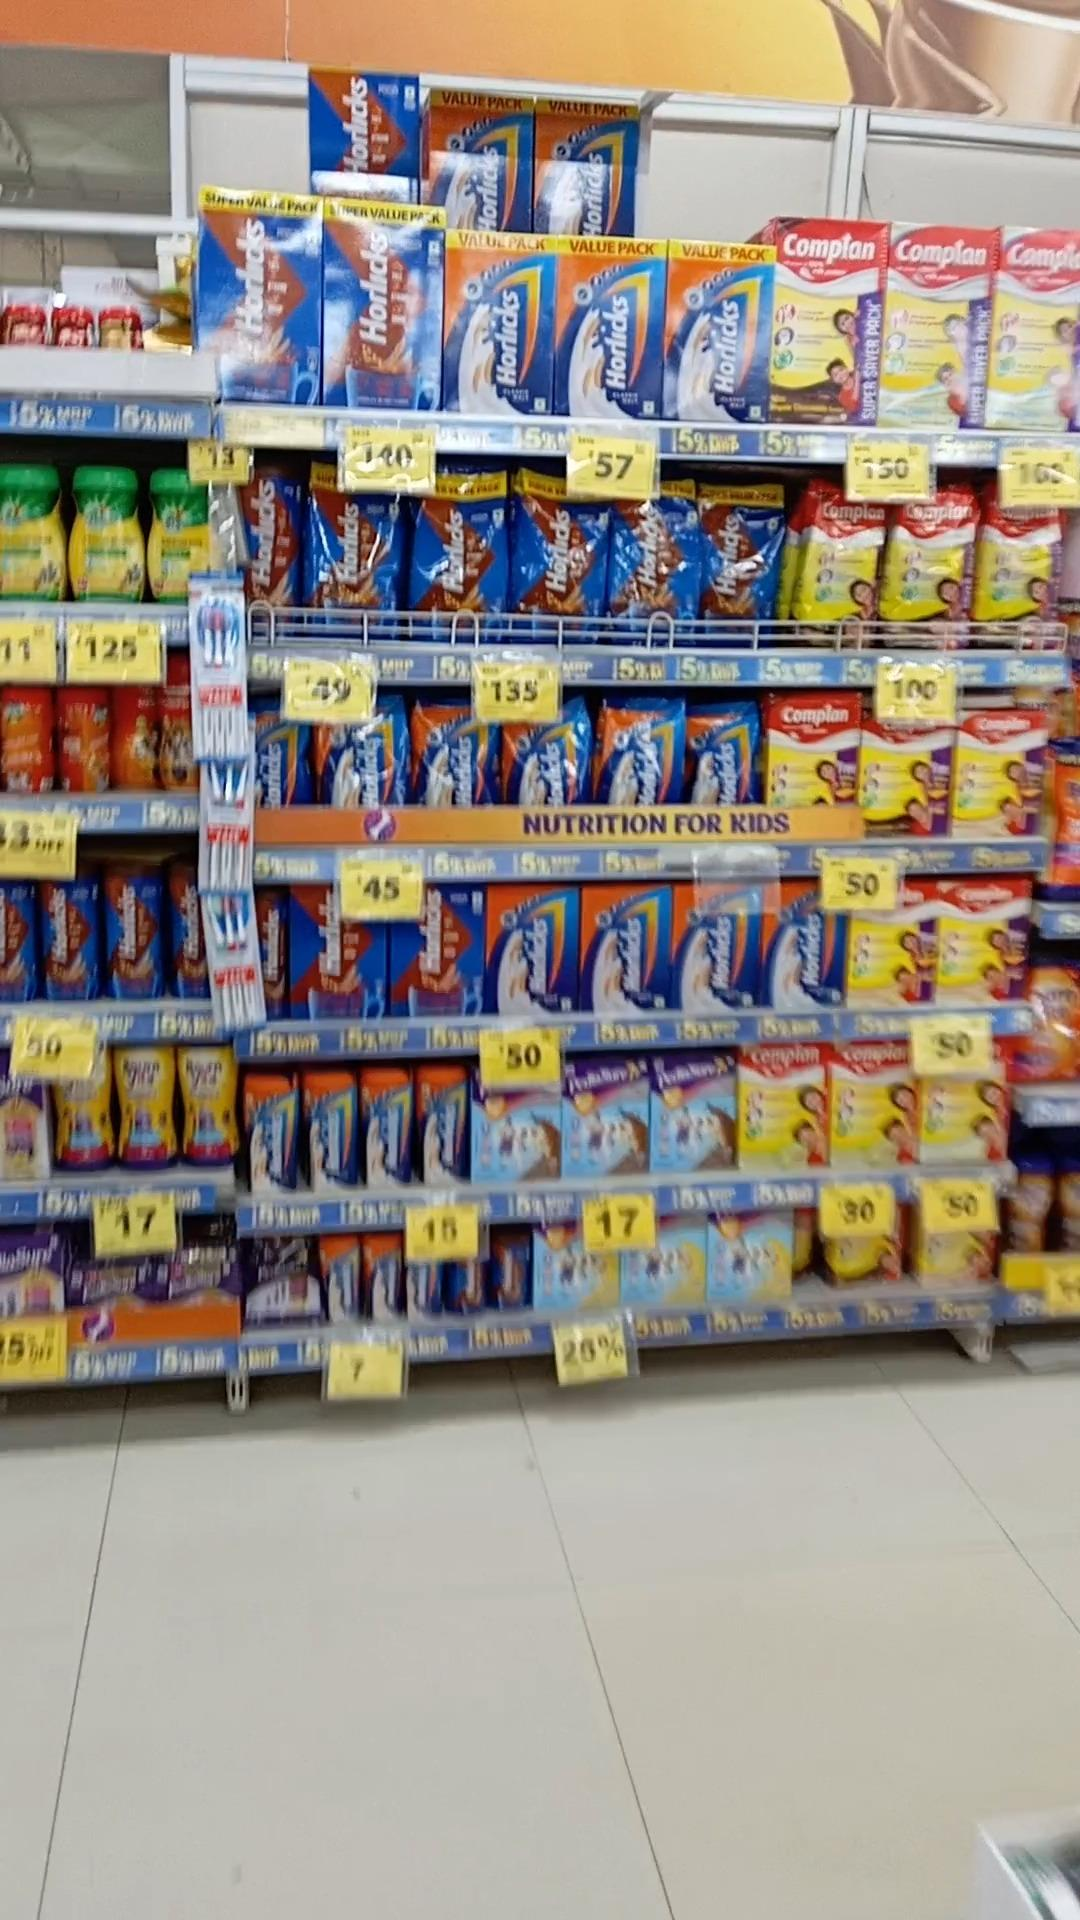BOURN_VITA_CHAMPS_500_G_JAR: (179, 1038, 237, 1167), (117, 1047, 174, 1172), (55, 1073, 113, 1172)
COMPLAN_CHOCOLATE_1_KG_PACK: (769, 218, 878, 426), (765, 695, 860, 807)
COMPLAN_CHOCOLATE_500_GMS_PACK: (861, 716, 951, 839)
COMPLAN_CREAMY_CLASSIC_500_G_PACK: (955, 711, 1042, 837), (939, 881, 1026, 1007), (849, 882, 936, 1009), (923, 1072, 1007, 1167)
COMPLAN_PISTA_BADAM_500_GMS_PACK: (831, 1042, 916, 1174), (738, 1044, 827, 1172)
COMPLAN_RC_POUCH_700_GMS_12: (802, 484, 885, 645), (890, 501, 973, 649), (978, 497, 1059, 649)
HORLICK_CHOCOLATE_1_KG_JAR: (237, 465, 301, 637), (111, 865, 165, 1005), (42, 869, 98, 1005), (164, 853, 204, 1000)
HORLICK_CHOCOLATE_1_KG_PACK: (200, 189, 315, 402), (327, 199, 439, 407)
HORLICK_CHOCOLATE_200_G_JAR: (484, 1226, 525, 1313)
HORLICK_CHOCOLATE_500_G_PACK: (290, 882, 380, 1019), (397, 889, 483, 1018)
HORLICK_CHOCOLATE_750_G_POUCH: (407, 459, 505, 638), (306, 485, 401, 642), (517, 472, 603, 642), (699, 483, 781, 646), (613, 496, 695, 653)
HORLICK_CLASSIC_MALT_200_G_JAR: (322, 1233, 361, 1328), (363, 1233, 402, 1324)
HORLICK_CLASSIC_MALT_500_G_PACK: (446, 228, 555, 411), (556, 237, 665, 418), (669, 240, 764, 425), (434, 88, 533, 223), (535, 98, 633, 233), (488, 889, 578, 1021), (584, 887, 671, 1015), (675, 889, 761, 1014), (764, 880, 843, 1010), (239, 1072, 295, 1193), (301, 1069, 353, 1193), (361, 1067, 410, 1188), (414, 1063, 462, 1183)
HORLICK_CLASSIC_MALT_750_G_POUCH: (414, 702, 496, 811), (599, 700, 682, 802), (684, 703, 758, 811), (323, 724, 410, 811), (513, 719, 593, 808)
PEDIASURE_7_PLUS_CHOCOLATE_400_G_PACK: (563, 1056, 649, 1180), (651, 1050, 736, 1172), (472, 1087, 559, 1183)
